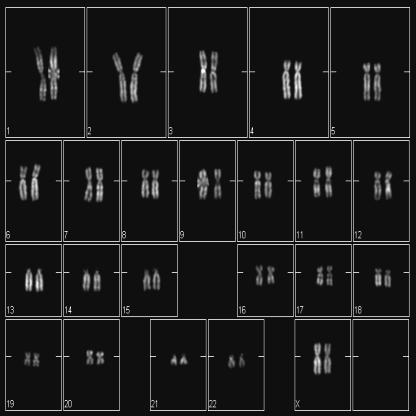1: (46, 45, 61, 102), (32, 44, 46, 102)
10: (253, 170, 262, 200), (264, 170, 273, 200)
11: (312, 166, 322, 198), (324, 164, 333, 197)
12: (384, 168, 393, 202), (374, 168, 382, 202)
13: (35, 269, 43, 294), (24, 268, 31, 292)
14: (82, 270, 90, 292), (93, 270, 101, 292)
15: (141, 266, 151, 292), (150, 268, 160, 292)
16: (266, 262, 276, 286), (254, 264, 264, 287)
17: (314, 265, 326, 287), (324, 262, 334, 286)
18: (384, 266, 393, 288), (374, 266, 382, 288)
19: (31, 350, 40, 370), (24, 348, 32, 367)
2: (128, 51, 144, 103), (112, 51, 127, 103)
20: (84, 350, 95, 366), (94, 350, 104, 366)
21: (170, 352, 178, 368), (180, 351, 188, 367)
22: (226, 353, 236, 371), (237, 352, 247, 370)
3: (198, 47, 208, 92), (210, 50, 220, 94)
4: (291, 57, 303, 102), (281, 58, 293, 102)
5: (362, 62, 370, 102), (373, 62, 381, 102)
6: (30, 162, 40, 202), (19, 162, 28, 202)
7: (94, 165, 105, 204), (83, 166, 94, 204)
8: (150, 167, 160, 200), (140, 167, 150, 198)
9: (196, 166, 208, 200), (212, 166, 223, 200)
X: (322, 340, 333, 375), (312, 340, 323, 374)
